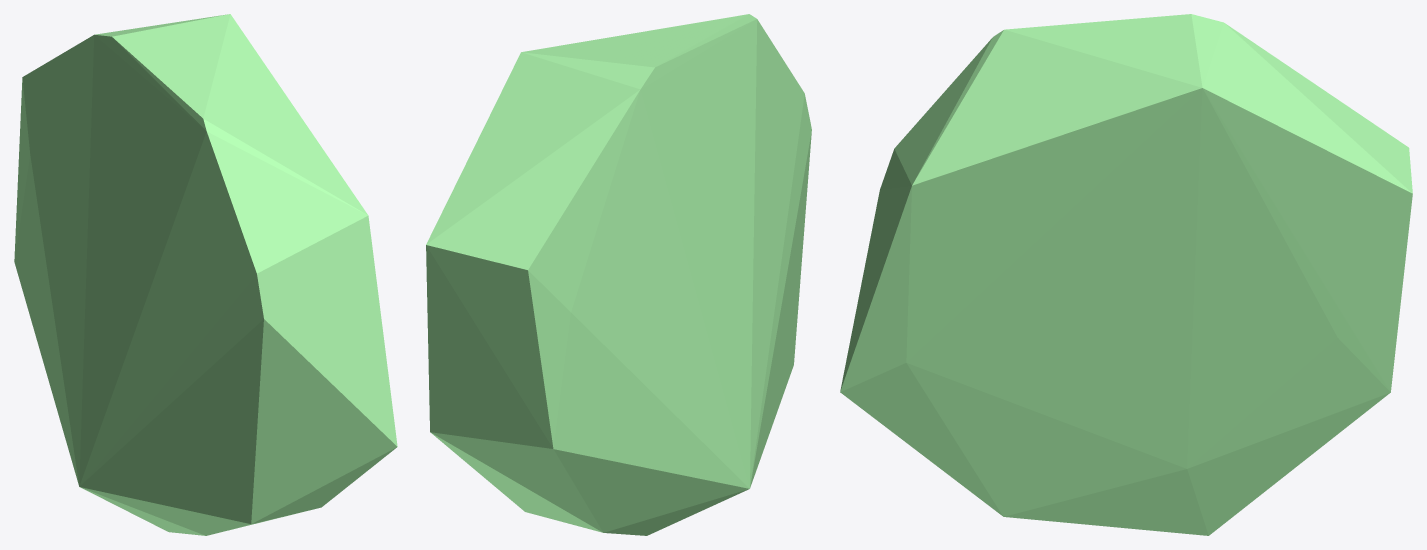
The model's file is linkhou_LR4_R560_link6_respondable_coll_10.dae.
3 renders of one model, left to right at view 1: azimuth 30°, elevation 25°; view 2: azimuth 150°, elevation 25°; view 3: azimuth 270°, elevation 25°, orthographic. The views are drawn at different scales.
Visible parts, largest first — view 1: Node_00000209DB3ADE40; view 2: Node_00000209DB3ADE40; view 3: Node_00000209DB3ADE40.
Part boxes in pixels (x1,y1,x2,y2): Node_00000209DB3ADE40: (14, 14, 397, 535); Node_00000209DB3ADE40: (426, 14, 811, 535); Node_00000209DB3ADE40: (840, 14, 1412, 535).
Size of the model in its own units: 0.0259 by 0.0606 by 0.0672.
